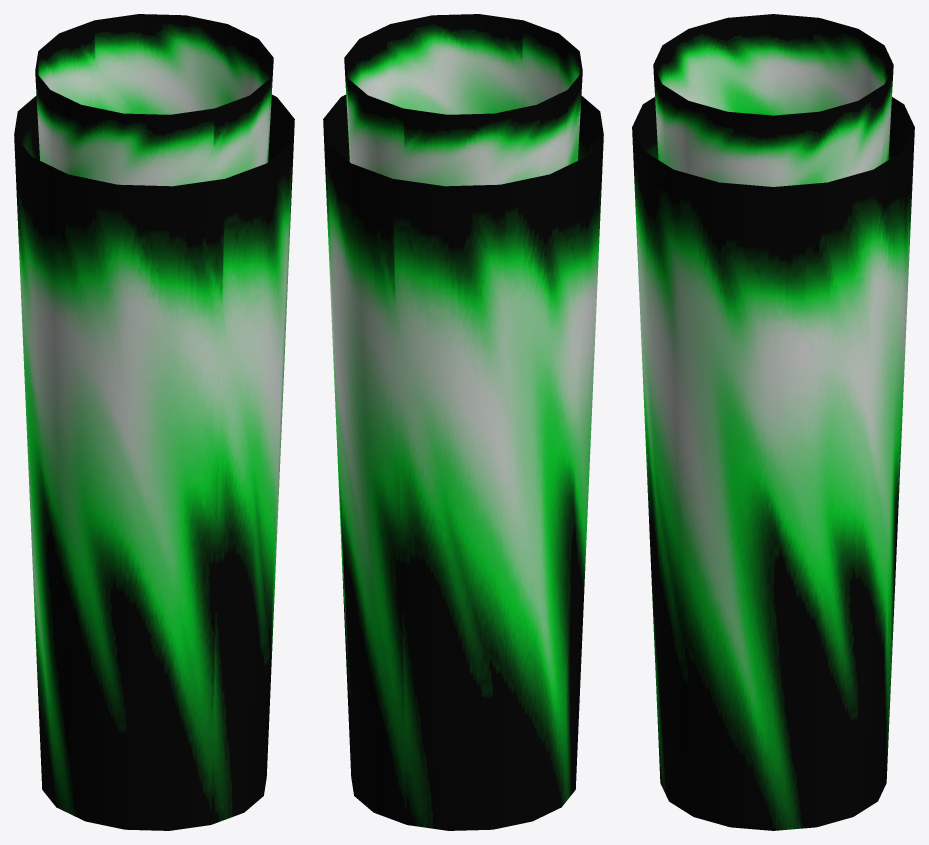
File: 4T0NJetpackMageDisplayMeshFlare.obj
3 renders of one model, left to right at view 1: azimuth 30°, elevation 25°; view 2: azimuth 150°, elevation 25°; view 3: azimuth 270°, elevation 25°, orthographic.
Parts seen in each view (by area): view 1: 4-T0NJetpackMageDisplayMeshFlare_4-T0N_Jetpack_Mage_Display_Flar; view 2: 4-T0NJetpackMageDisplayMeshFlare_4-T0N_Jetpack_Mage_Display_Flar; view 3: 4-T0NJetpackMageDisplayMeshFlare_4-T0N_Jetpack_Mage_Display_Flar.
Boxes of the visible parts, box(x1,y1,x2,y2) form: 4-T0NJetpackMageDisplayMeshFlare_4-T0N_Jetpack_Mage_Display_Flar: box(14, 14, 294, 830); 4-T0NJetpackMageDisplayMeshFlare_4-T0N_Jetpack_Mage_Display_Flar: box(323, 14, 603, 830); 4-T0NJetpackMageDisplayMeshFlare_4-T0N_Jetpack_Mage_Display_Flar: box(632, 14, 914, 830).
Bounding box in the file's own units: 0.2052 × 0.575 × 0.2052.
Materials: 1 (1 with a texture image).
